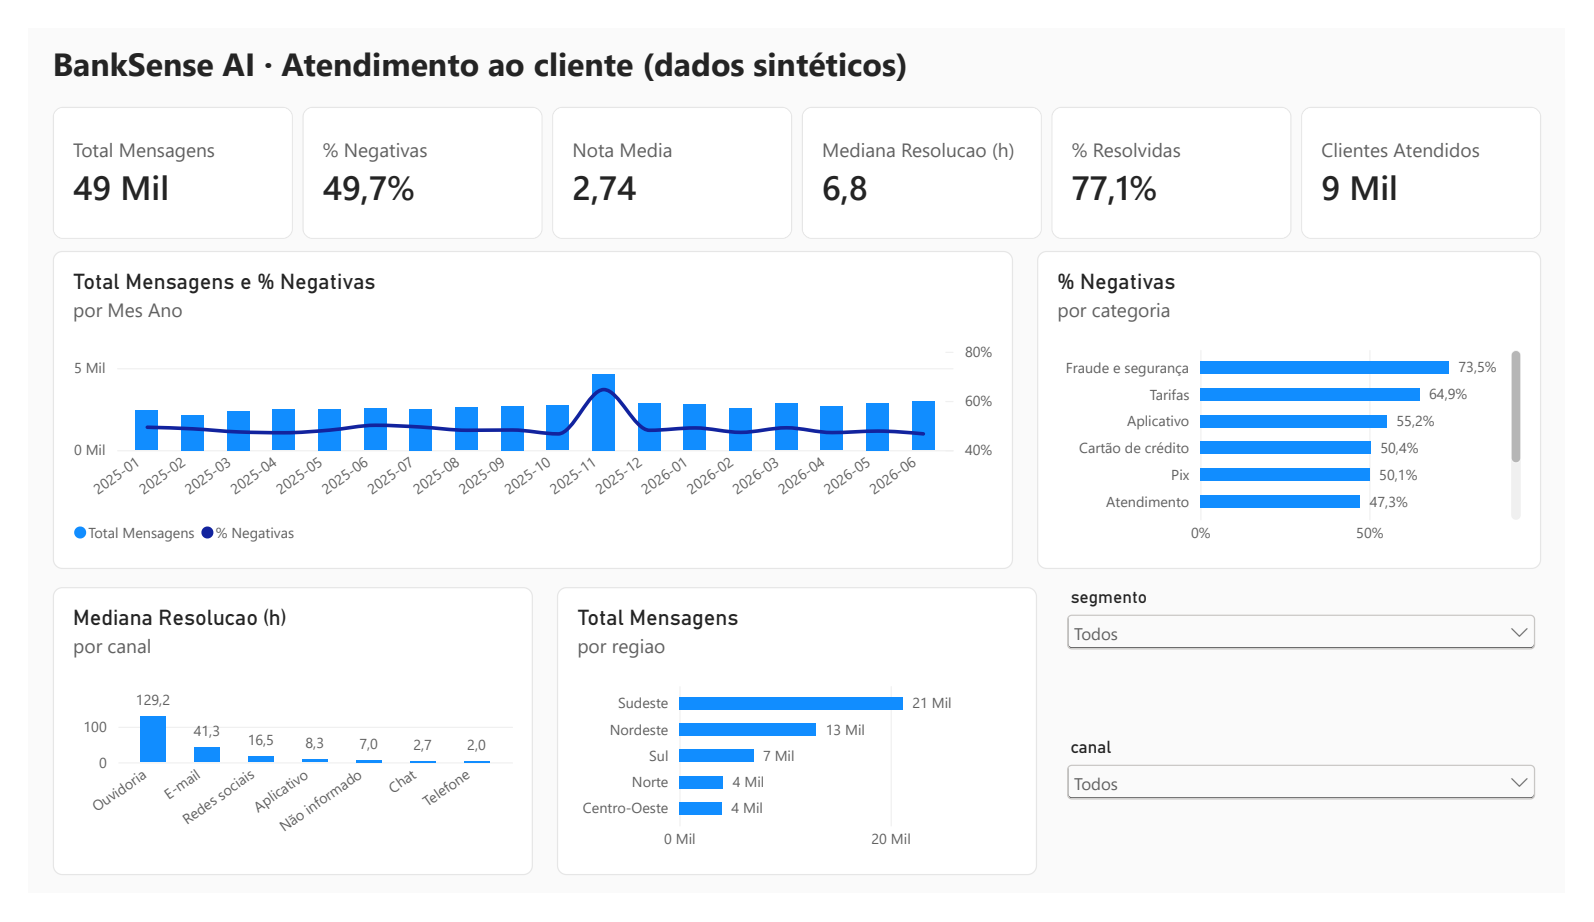

The dashboard page shown, as its layout file describes it:
{"tool":"powerbi","page":{"name":"Página 1","canvas":[1280,720],"ordinal":0},"visuals":[{"type":"cardVisual","fields":{"Data":["fato_mensagens.Total Mensagens","fato_mensagens.% Negativas","fato_mensagens.Nota Media","fato_mensagens.Mediana Resolucao (h)","fato_mensagens.% Resolvidas","fato_mensagens.Clientes Atendidos"]},"box":[20,65,1240,110],"z":0},{"type":"lineClusteredColumnComboChart","fields":{"Category":["dCalendario.Mes Ano"],"Y":["fato_mensagens.Total Mensagens"],"Y2":["fato_mensagens.% Negativas"]},"box":[20,185,800,265],"z":1},{"type":"clusteredBarChart","fields":{"Category":["fato_mensagens.categoria"],"Y":["fato_mensagens.% Negativas"]},"box":[840,185,420,265],"z":2},{"type":"clusteredColumnChart","fields":{"Category":["fato_mensagens.canal"],"Y":["fato_mensagens.Mediana Resolucao (h)"]},"box":[20,465,400,240],"z":3},{"type":"clusteredBarChart","fields":{"Category":["dim_clientes.regiao"],"Y":["fato_mensagens.Total Mensagens"]},"box":[440,465,400,240],"z":4},{"type":"slicer","fields":{"Values":["dim_clientes.segmento"]},"box":[860,465,400,115],"z":5},{"type":"slicer","fields":{"Values":["fato_mensagens.canal"]},"box":[860,590,400,115],"z":6},{"type":"textbox","box":[20,725,400,240],"z":7},{"type":"textbox","box":[20,10,1240,50],"z":8}]}

Visuals, with their boxes in screenshot pixels (x1, y1, x2, y2), scaled from the page's 1280x720 canvas onto the 1594x922 screenshot:
cardVisual - fato_mensagens.Total Mensagens x fato_mensagens.% Negativas: rect(25, 83, 1569, 224)
lineClusteredColumnComboChart - dCalendario.Mes Ano x fato_mensagens.Total Mensagens: rect(25, 237, 1021, 576)
clusteredBarChart - fato_mensagens.categoria x fato_mensagens.% Negativas: rect(1046, 237, 1569, 576)
clusteredColumnChart - fato_mensagens.canal x fato_mensagens.Mediana Resolucao (h): rect(25, 595, 523, 903)
clusteredBarChart - dim_clientes.regiao x fato_mensagens.Total Mensagens: rect(548, 595, 1046, 903)
slicer - dim_clientes.segmento: rect(1071, 595, 1569, 743)
slicer - fato_mensagens.canal: rect(1071, 756, 1569, 903)
textbox: rect(25, 13, 1569, 77)
